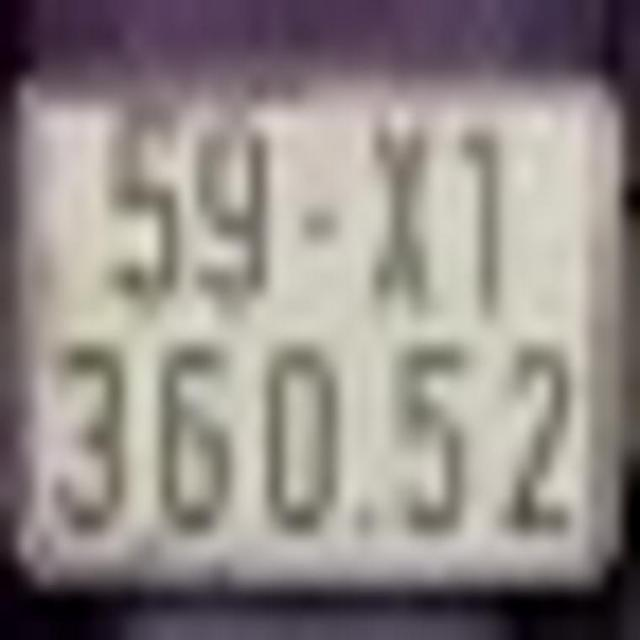0: (248, 340, 346, 524)
1: (455, 117, 513, 320)
2: (496, 336, 580, 535)
3: (45, 340, 132, 524)
5: (100, 103, 184, 304), (392, 336, 475, 534)
6: (148, 336, 240, 532)
9: (195, 105, 272, 314)
X: (354, 107, 438, 311)
